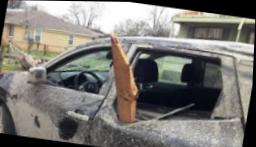Door: (91, 42, 247, 147), (17, 41, 129, 142)
